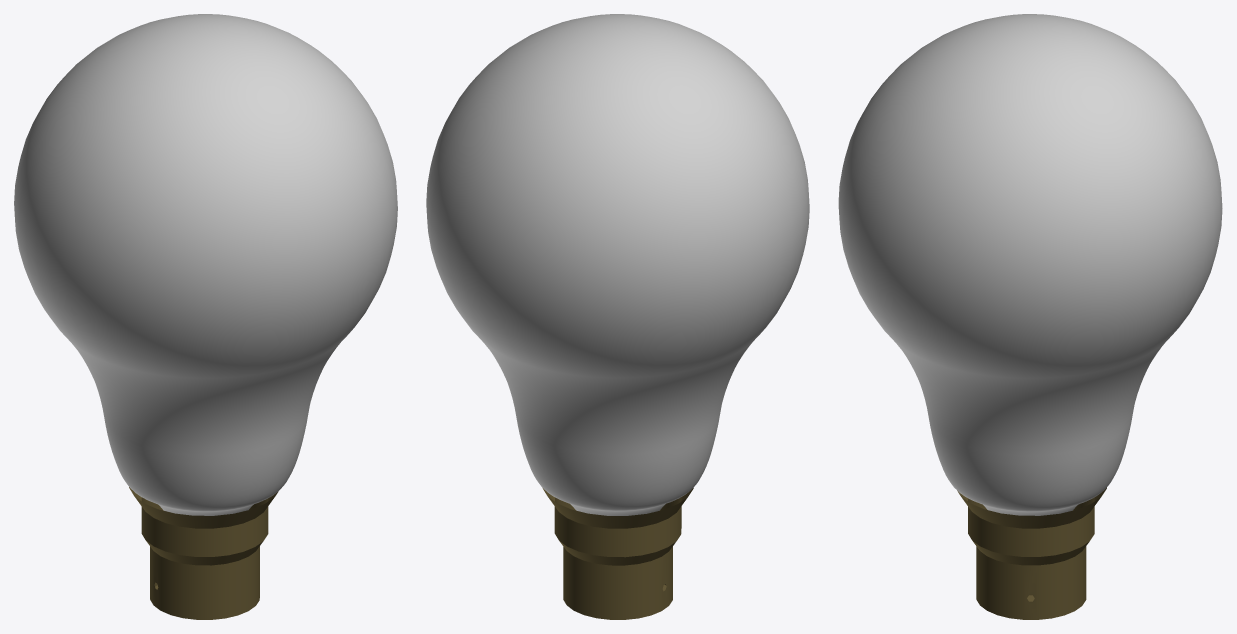
File: light bulb.dae
3 views of the same model, side by side, from view 1: azimuth 30°, elevation 25°; view 2: azimuth 150°, elevation 25°; view 3: azimuth 270°, elevation 25° (orthographic).
Visible parts, largest first — view 1: bulb, group_0; view 2: bulb, group_0; view 3: bulb, group_0.
Boxes of the visible parts, left/top/right/bottom form: bulb: left=14, top=14, right=397, bottom=515; group_0: left=129, top=487, right=278, bottom=619; bulb: left=426, top=14, right=809, bottom=515; group_0: left=542, top=488, right=693, bottom=619; bulb: left=838, top=14, right=1222, bottom=515; group_0: left=957, top=487, right=1106, bottom=619.
Size of the model in its own units: 2.48 by 2.48 by 4.05.
